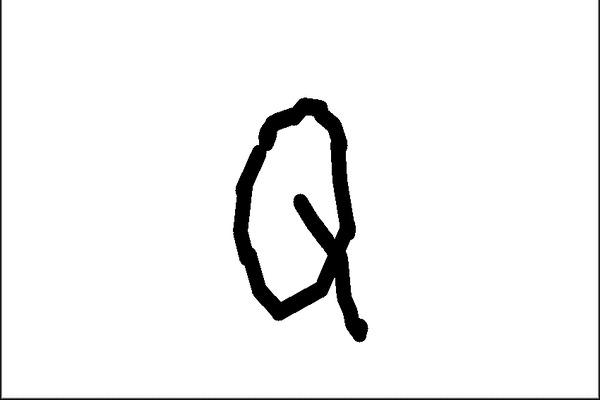Q: (213, 91, 376, 345)
